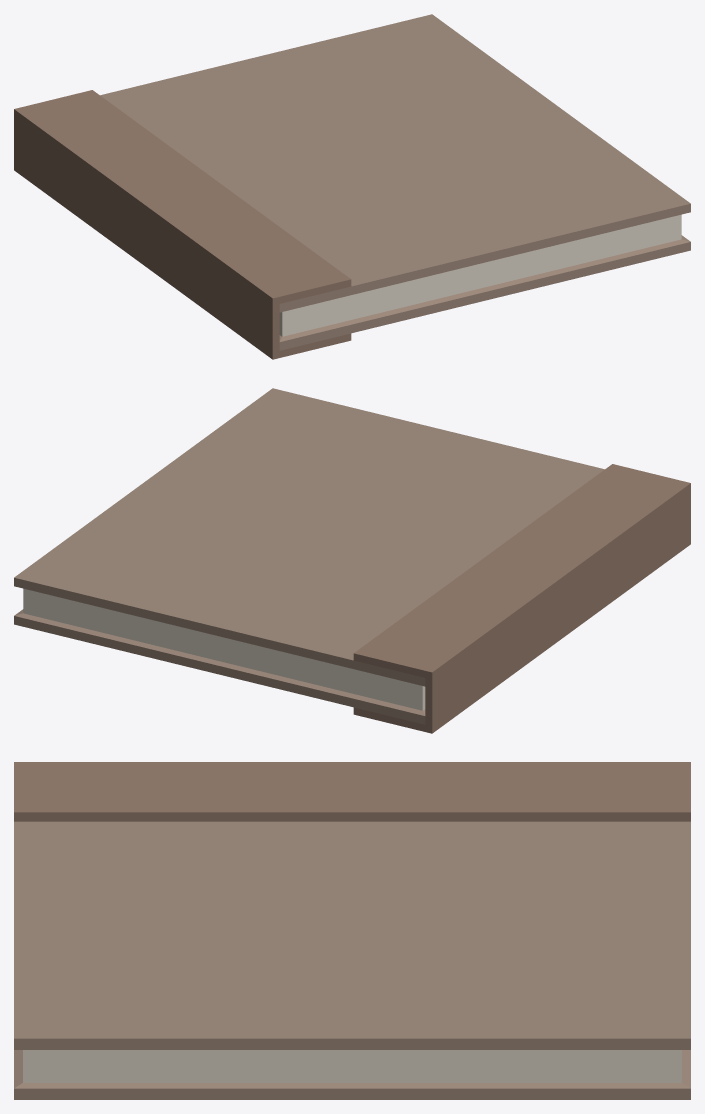
The model's file is guest book.fbx.
3 renders of one model, top to bottom at view 1: azimuth 30°, elevation 25°; view 2: azimuth 150°, elevation 25°; view 3: azimuth 270°, elevation 25°, orthographic. The views are drawn at different scales.
Parts seen in each view (by area): view 1: guest book; view 2: guest book; view 3: guest book.
Boxes of the visible parts, x1,y1,x2,y2 form: guest book: [14, 14, 690, 359]; guest book: [14, 388, 690, 733]; guest book: [14, 762, 690, 1099].
Bounding box in the file's own units: 0.4604 × 0.0645 × 0.4934.
